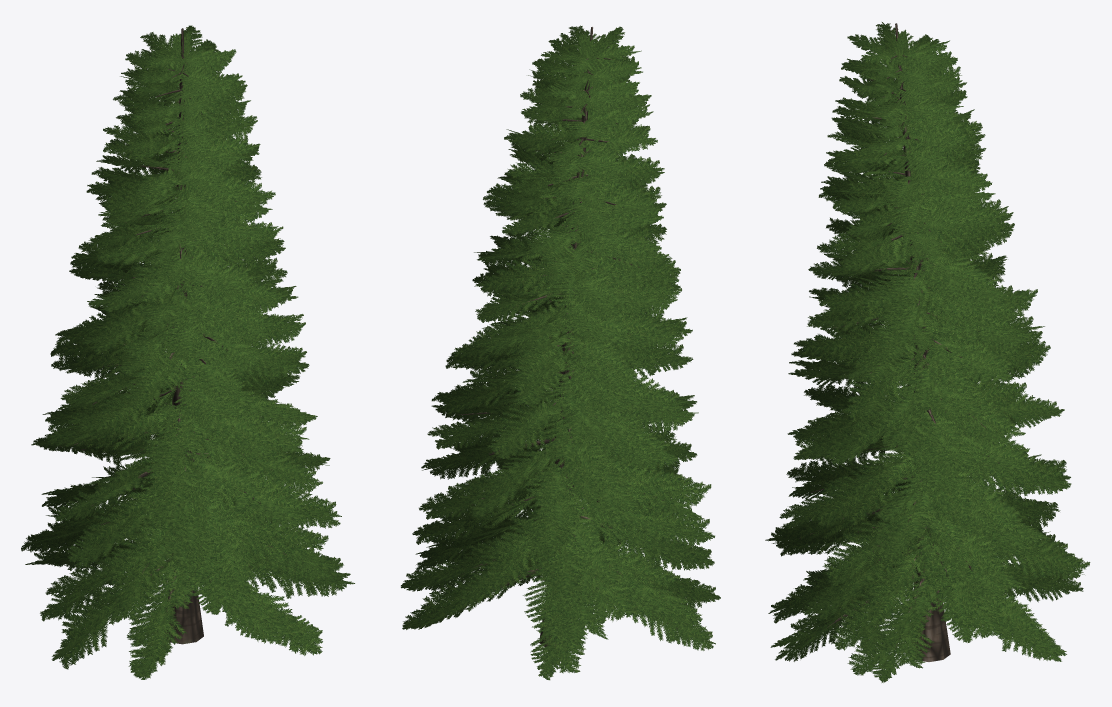
File: pine_tall.gltf
3 views of the same model, side by side, from view 1: azimuth 30°, elevation 25°; view 2: azimuth 150°, elevation 25°; view 3: azimuth 270°, elevation 25° (orthographic). The views are drawn at different scales.
Visible parts, largest first — view 1: pine_tall; view 2: pine_tall; view 3: pine_tall.
Part boxes in pixels (left/top/right/bottom): pine_tall: left=21, top=25, right=354, bottom=679; pine_tall: left=401, top=25, right=720, bottom=680; pine_tall: left=765, top=22, right=1090, bottom=682.
Size of the model in its own units: 7.78 by 15 by 7.42.
2 materials, 2 textured.
